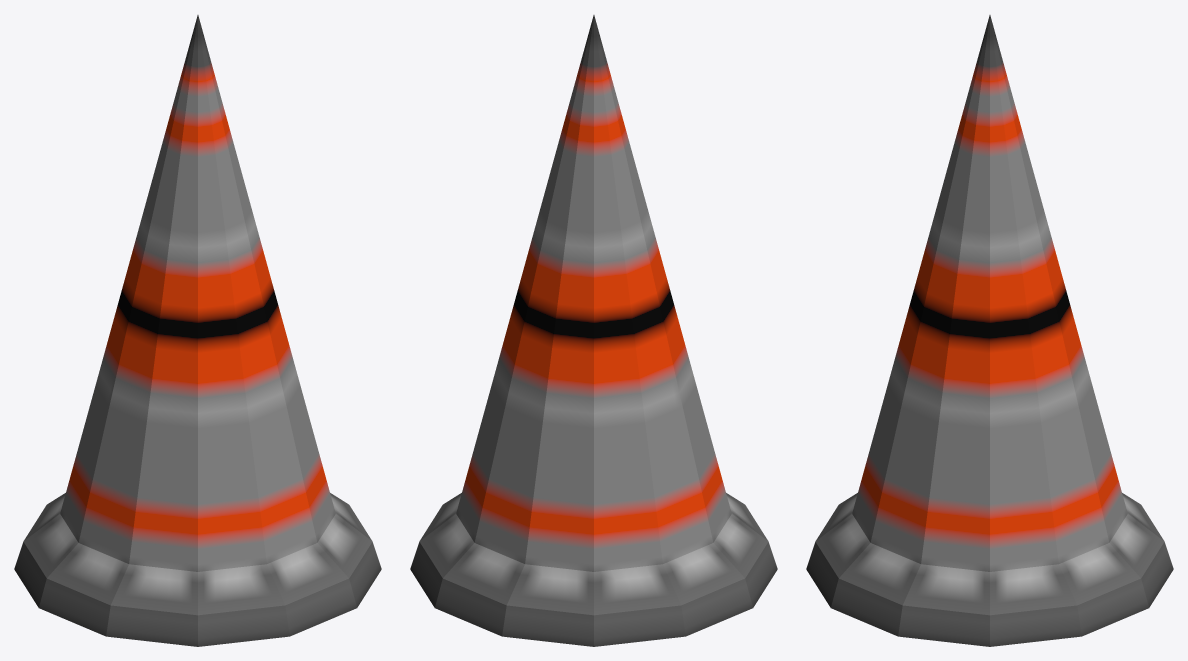
The model's file is mp_w_15_incendiary.obj.
The picture shows the model from 3 angles, left to right: view 1: azimuth 30°, elevation 25°; view 2: azimuth 150°, elevation 25°; view 3: azimuth 270°, elevation 25°; orthographic projection.
Parts seen in each view (by area): view 1: Cone; view 2: Cone; view 3: Cone.
Part boxes in pixels (x1,y1,x2,y2): Cone: (14,15,381,646); Cone: (410,15,777,646); Cone: (806,15,1173,646).
Size of the model in its own units: 1.5 by 2.5 by 1.5.
